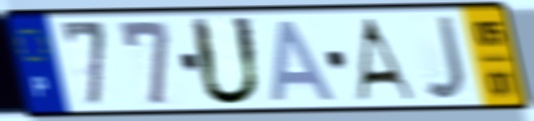7: (115, 18, 173, 108), (57, 19, 110, 110)
A: (270, 17, 341, 104), (352, 15, 418, 102)
J: (421, 12, 469, 103)
U: (186, 14, 266, 109)
